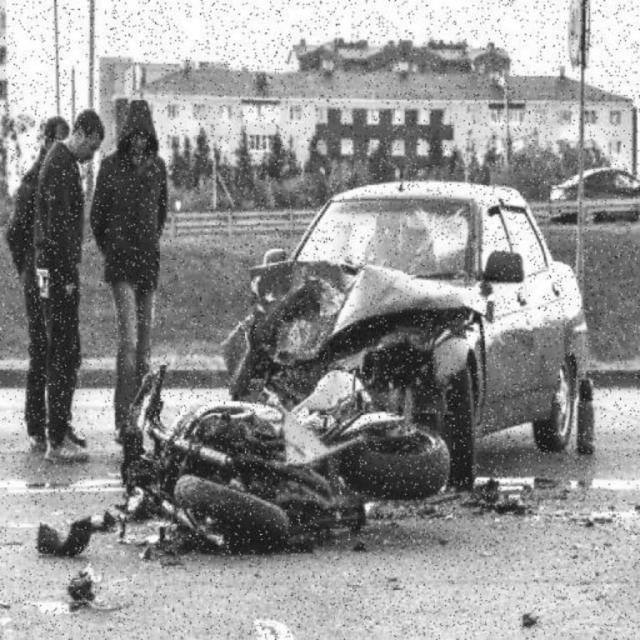accident: (165, 187, 588, 541)
person: (16, 106, 92, 471), (99, 95, 169, 455)
vehicle: (547, 158, 640, 214)
